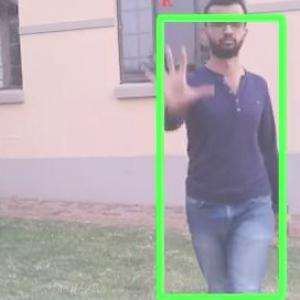follow_hand: (150, 43, 217, 110)
